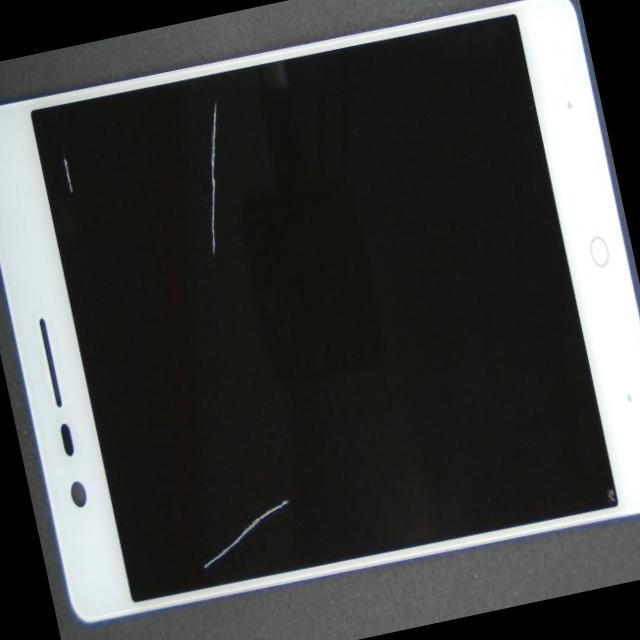scratch: (179, 96, 251, 257), (191, 499, 307, 577), (57, 153, 79, 200)
